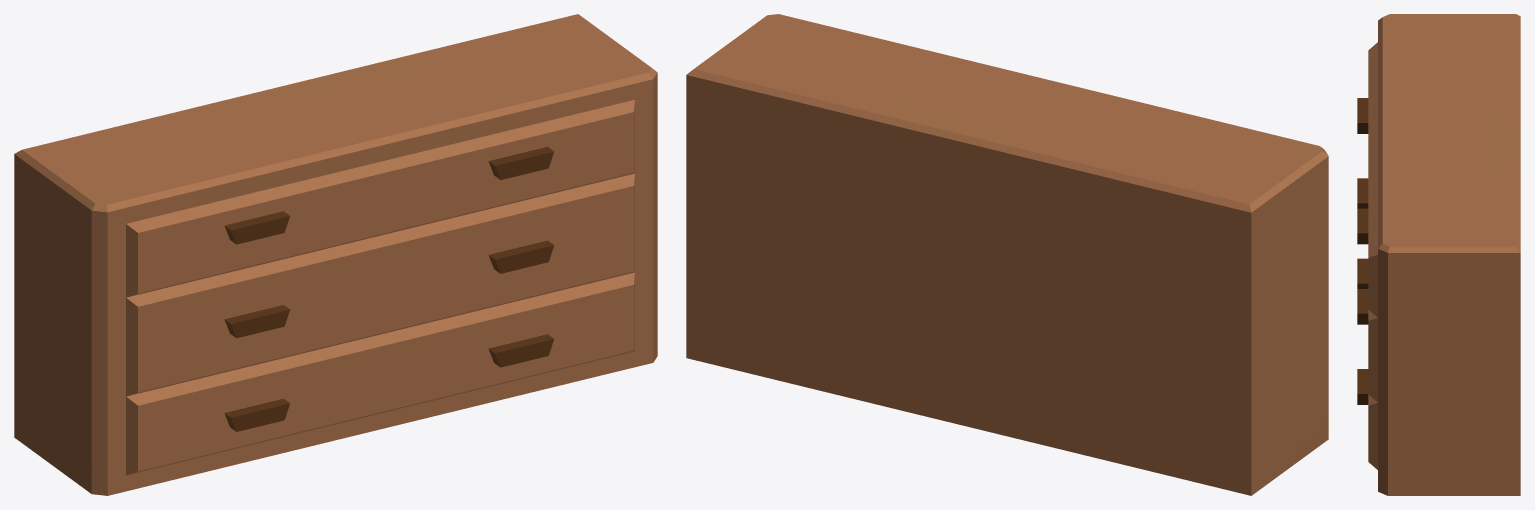
The model's file is sm_LongDrawer.fbx.
3 renders of one model, left to right at view 1: azimuth 30°, elevation 25°; view 2: azimuth 150°, elevation 25°; view 3: azimuth 270°, elevation 25°, orthographic. The views are drawn at different scales.
Parts seen in each view (by area): view 1: Cube.008; view 2: Cube.008; view 3: Cube.008.
Boxes of the visible parts, box(x1,y1,x2,y2) form: Cube.008: box(14, 14, 657, 495); Cube.008: box(686, 14, 1328, 495); Cube.008: box(1357, 14, 1520, 495).
Size of the model in its own units: 171 by 83.56 by 50.04.
